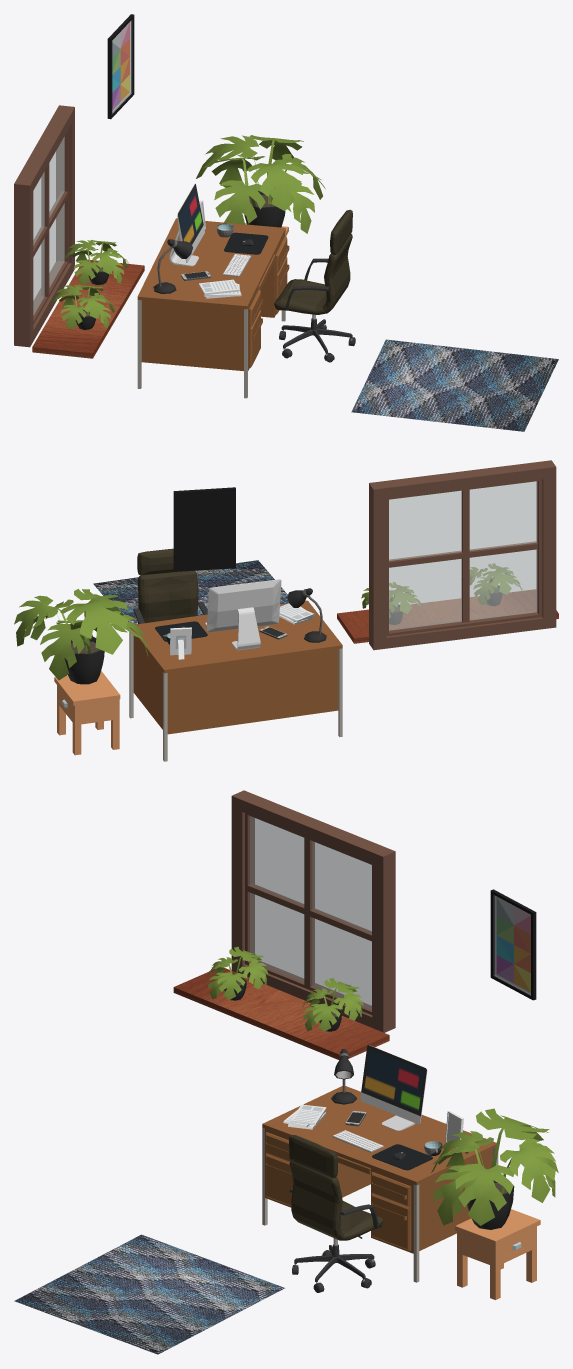
Rendered from roomW.gltf.
3 views of the same model, one above another, from view 1: azimuth 30°, elevation 25°; view 2: azimuth 150°, elevation 25°; view 3: azimuth 270°, elevation 25° (orthographic). The views are drawn at different scales.
Visible parts, largest first — view 1: Node.003, Plane.001, Node.001, Houseplant-bfLOqIV5uP.001, Chair.003, Cube.001, Node, Houseplant-bfLOqIV5uP.002, Houseplant-bfLOqIV5uP, Monitor.001|iMac|Dupli|, Mousepad, Light Desk.001 (+1 smaller); view 2: Node.001, Node.003, Houseplant-bfLOqIV5uP.001, Node, Chair.003, Monitor.001|iMac|Dupli|, Cabinet Bed Drawer Tabl, Cube.001, Plane.001, Houseplant-bfLOqIV5uP, Houseplant-bfLOqIV5uP.002, Light Desk.001 (+3 smaller); view 3: Node.001, Plane.001, Node.003, Houseplant-bfLOqIV5uP.001, Chair.003, Cube.001, Node, Cabinet Bed Drawer Tabl, Monitor.001|iMac|Dupli|, Houseplant-bfLOqIV5uP.002, Houseplant-bfLOqIV5uP, Mousepad (+2 smaller).
Boxes of the visible parts, <box> form: Node.003: <box>137,218,289,398</box>; Plane.001: <box>351,339,558,431</box>; Node.001: <box>14,105,74,347</box>; Houseplant-bfLOqIV5uP.001: <box>196,135,325,233</box>; Chair.003: <box>274,209,355,362</box>; Cube.001: <box>32,259,144,358</box>; Node: <box>107,14,134,119</box>; Houseplant-bfLOqIV5uP.002: <box>64,240,128,284</box>; Houseplant-bfLOqIV5uP: <box>51,284,115,329</box>; Monitor.001|iMac|Dupli|: <box>169,183,204,266</box>; Mousepad: <box>224,232,268,254</box>; Light Desk.001: <box>153,239,192,293</box>; Node.001: <box>369,460,556,650</box>; Node.003: <box>129,600,342,761</box>; Houseplant-bfLOqIV5uP.001: <box>14,589,149,684</box>; Node: <box>173,487,235,571</box>; Chair.003: <box>133,548,207,624</box>; Monitor.001|iMac|Dupli|: <box>206,579,281,650</box>; Cabinet Bed Drawer Tabl: <box>54,671,120,755</box>; Cube.001: <box>337,589,558,643</box>; Plane.001: <box>93,560,288,624</box>; Houseplant-bfLOqIV5uP: <box>470,563,522,605</box>; Houseplant-bfLOqIV5uP.002: <box>361,582,423,624</box>; Light Desk.001: <box>287,588,326,642</box>; Node.001: <box>231,790,395,1032</box>; Plane.001: <box>14,1234,284,1354</box>; Node.003: <box>262,1086,498,1282</box>; Houseplant-bfLOqIV5uP.001: <box>431,1108,558,1229</box>; Chair.003: <box>289,1134,382,1292</box>; Cube.001: <box>173,967,389,1060</box>; Node: <box>490,889,536,1000</box>; Cabinet Bed Drawer Tabl: <box>455,1209,540,1299</box>; Monitor.001|iMac|Dupli|: <box>360,1045,427,1130</box>; Houseplant-bfLOqIV5uP.002: <box>302,978,363,1031</box>; Houseplant-bfLOqIV5uP: <box>207,946,268,1000</box>; Mousepad: <box>372,1144,432,1170</box>.
Size of the model in its own units: 5.35 by 2.93 by 4.57.
55 materials, 6 textured.
